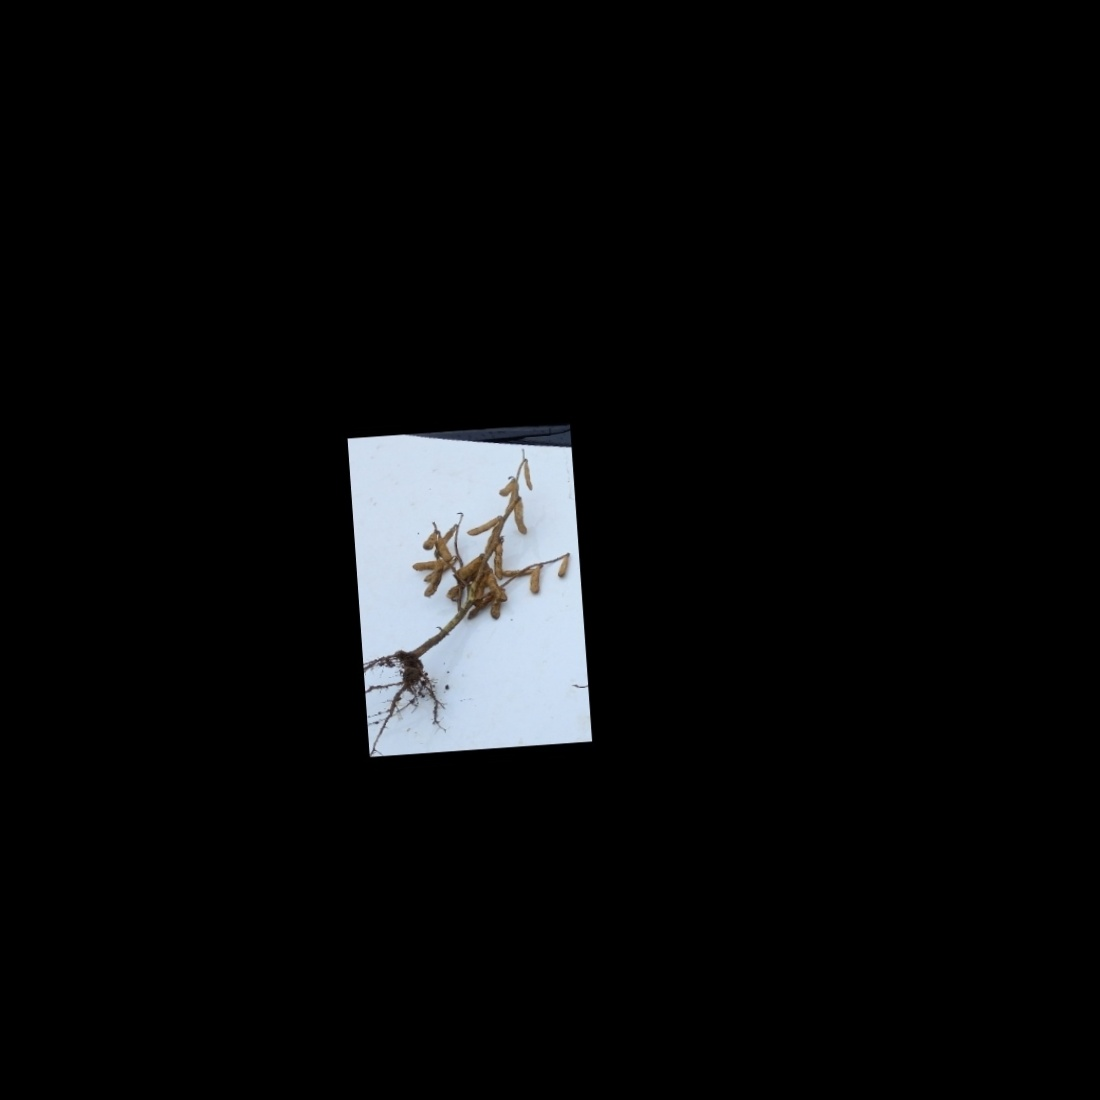pod: (465, 512, 501, 536), (527, 566, 546, 598), (513, 500, 528, 538), (492, 542, 506, 581), (554, 555, 571, 584), (419, 528, 437, 554), (495, 474, 515, 497), (523, 460, 536, 492)
soy: (354, 444, 584, 714)
